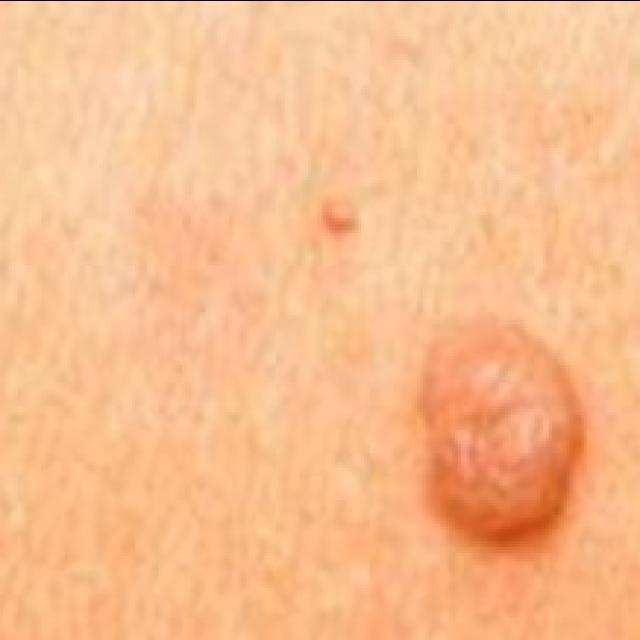wart: (399, 288, 590, 570), (311, 191, 355, 241)
